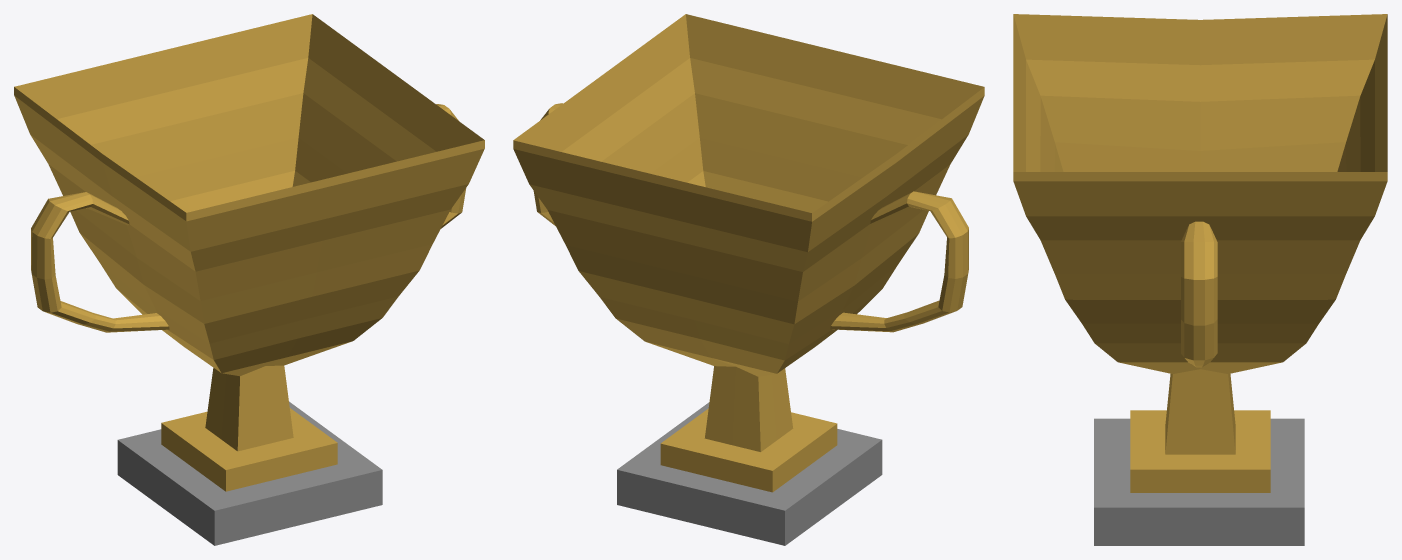
Rendered from trophy.fbx.
3 renders of one model, left to right at view 1: azimuth 30°, elevation 25°; view 2: azimuth 150°, elevation 25°; view 3: azimuth 270°, elevation 25°, orthographic. The views are drawn at different scales.
Visible parts, largest first — view 1: Cube.011; view 2: Cube.011; view 3: Cube.011.
Part boxes in pixels (box(x1,y1,x2,y2)): Cube.011: box(14, 14, 484, 545); Cube.011: box(513, 14, 984, 545); Cube.011: box(1013, 14, 1387, 545).
Bounding box in the file's own units: 1025 × 856 × 711.
